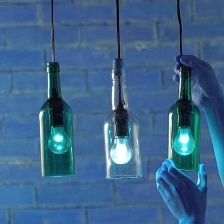bottle: (32, 58, 82, 181), (163, 61, 207, 180), (100, 65, 143, 183)
